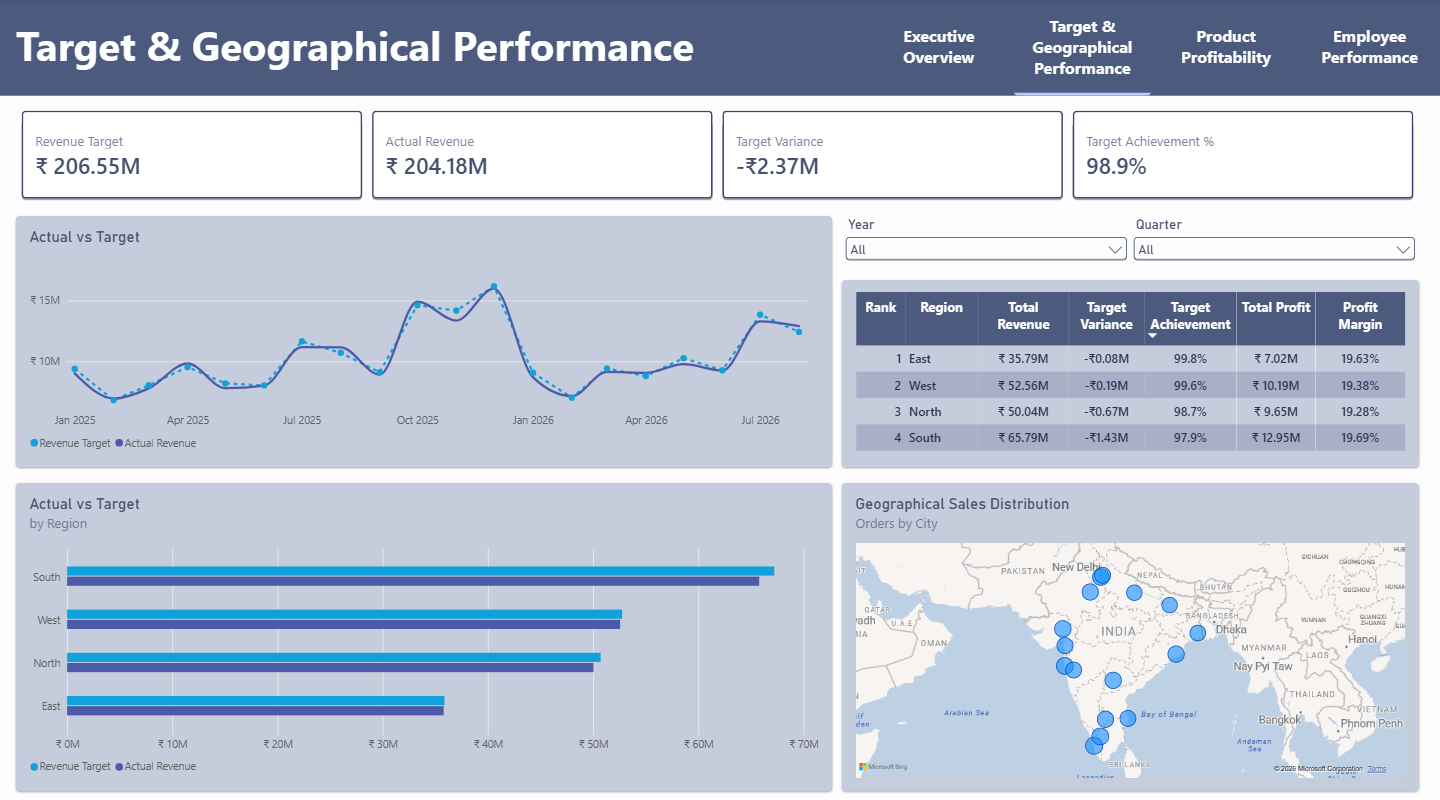

The dashboard page shown, as its layout file describes it:
{"tool":"powerbi","page":{"name":"Target & Geographical Performance","canvas":[1920,1080],"ordinal":1},"visuals":[{"type":"cardVisual","fields":{"Data":["tblTargets.TotalTarget","tblFactSales.TotalNet","tblTargets.TargetVar","tblTargets.TargetAch%"]},"box":[26.3,143,1866,132.8],"z":0},{"type":"lineChart","title":"Actual vs Target","fields":{"Category":["tblDimDate.YearMonth"],"Y":["tblTargets.TotalTarget","tblFactSales.TotalNet"]},"box":[26.3,290.3,1085.5,334.1],"z":1000},{"type":"clusteredBarChart","title":"Actual vs Target","fields":{"Category":["tblDimRegion.Region"],"Y":["tblTargets.TotalTarget","tblFactSales.TotalNet"]},"box":[26.3,644.9,1085.5,410],"z":2000},{"type":"tableEx","fields":{"Values":["tblTargets.RegionRank","tblDimRegion.Region","tblFactSales.TotalNet","tblTargets.TargetVar","tblTargets.TargetAch%","tblFactSales.TotalProfit","tblFactSales.Margin%"]},"box":[1124.9,375,767.4,249.5],"z":3000},{"type":"map","title":"Geographical Sales Distribution","fields":{"Category":["tblDimLocation.City"],"Size":["tblFactSales.TotalOrder"]},"box":[1125,645,767,410],"z":4000},{"type":"slicer","title":"Period Panel","fields":{"Values":["tblDimDate.Year"]},"box":[1124.9,290.3,383.7,72.9],"z":5000},{"type":"slicer","title":"Period Panel","fields":{"Values":["tblDimDate.Quarter"]},"box":[1508.6,290.3,383.7,72.9],"z":6000},{"type":"shape","box":[0,0,1920.6,130.3],"z":7000},{"type":"pageNavigator","box":[1161.9,0,758.1,130.3],"z":8000},{"type":"textbox","box":[26.6,25.3,932.4,117],"z":9000}]}

Visuals, with their boxes in screenshot pixels (x1, y1, x2, y2), scaled from the page's 1920x1080 canvas onto the 1440x800 screenshot:
cardVisual - tblTargets.TotalTarget x tblFactSales.TotalNet: (20, 106, 1419, 204)
"Actual vs Target" lineChart: (20, 215, 834, 463)
"Actual vs Target" clusteredBarChart: (20, 478, 834, 781)
tableEx - tblTargets.RegionRank x tblDimRegion.Region: (844, 278, 1419, 463)
"Geographical Sales Distribution" map: (844, 478, 1419, 781)
"Period Panel" slicer: (844, 215, 1131, 269)
"Period Panel" slicer: (1131, 215, 1419, 269)
shape: (0, 0, 1439, 97)
pageNavigator: (871, 0, 1439, 97)
textbox: (20, 19, 719, 105)
